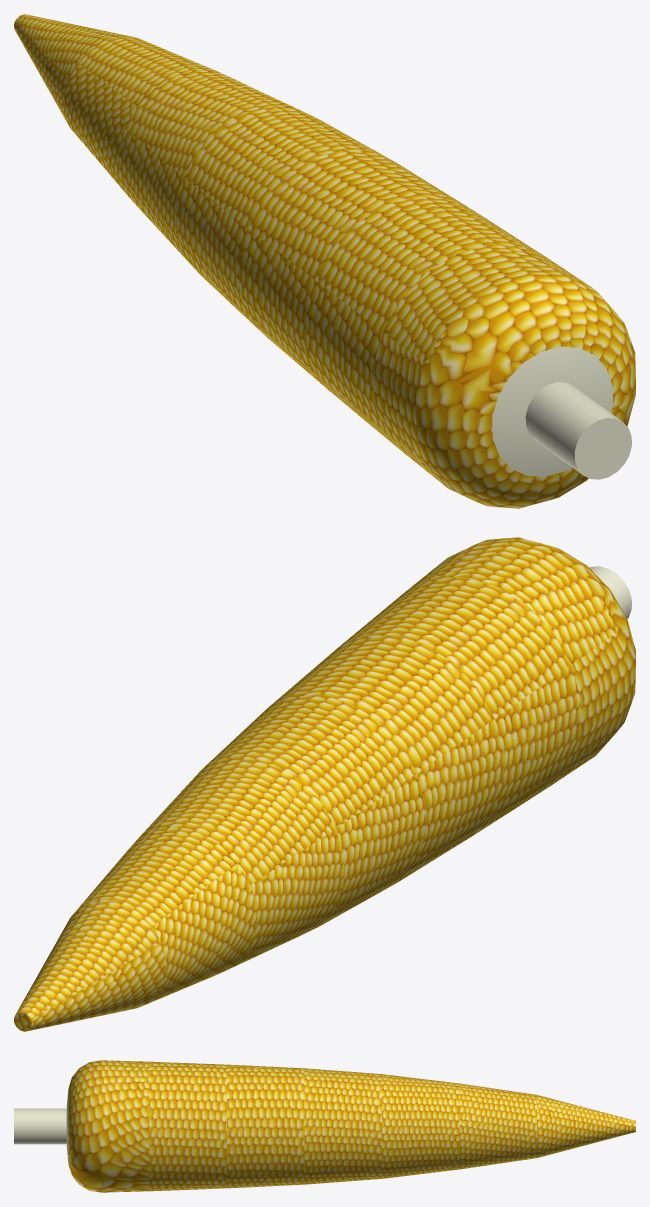
File: Corn.fbx
3 views of the same model, one above another, from view 1: azimuth 30°, elevation 25°; view 2: azimuth 150°, elevation 25°; view 3: azimuth 270°, elevation 25° (orthographic). The views are drawn at different scales.
Visible parts, largest first — view 1: polySurface10, polySurface4, polySurface5, polySurface6, polySurface7, polySurface8, polySurface9; view 2: polySurface4, polySurface5, polySurface6, polySurface7, polySurface10, polySurface8, polySurface9; view 3: polySurface10, polySurface4, polySurface5, polySurface6, polySurface7, polySurface8, polySurface9.
Boxes of the visible parts, <box> form: polySurface10: <box>373,244,635,508</box>; polySurface4: <box>305,196,547,452</box>; polySurface5: <box>239,149,471,395</box>; polySurface6: <box>176,106,395,336</box>; polySurface7: <box>118,70,295,272</box>; polySurface8: <box>64,36,216,192</box>; polySurface9: <box>14,14,135,126</box>; polySurface4: <box>336,577,580,834</box>; polySurface5: <box>268,635,503,881</box>; polySurface6: <box>202,694,425,926</box>; polySurface7: <box>140,757,343,971</box>; polySurface10: <box>405,537,635,785</box>; polySurface8: <box>73,827,256,1006</box>; polySurface9: <box>14,899,165,1031</box>; polySurface10: <box>14,1060,149,1192</box>; polySurface4: <box>149,1061,226,1191</box>; polySurface5: <box>227,1064,304,1188</box>; polySurface6: <box>304,1068,381,1184</box>; polySurface7: <box>382,1074,459,1178</box>; polySurface8: <box>459,1083,536,1169</box>; polySurface9: <box>537,1095,635,1157</box>.
Bounding box in the file's own units: 2.2 × 2.2 × 10.4.
3 materials, 2 textured.
